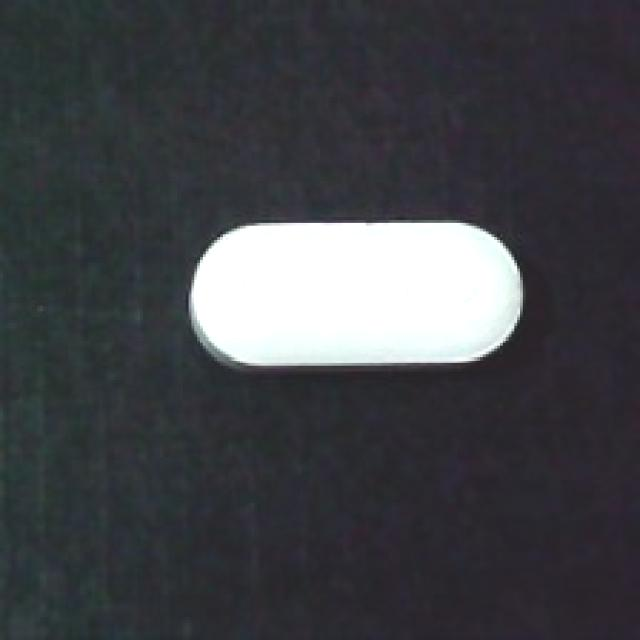no-defect: (189, 209, 531, 380)
